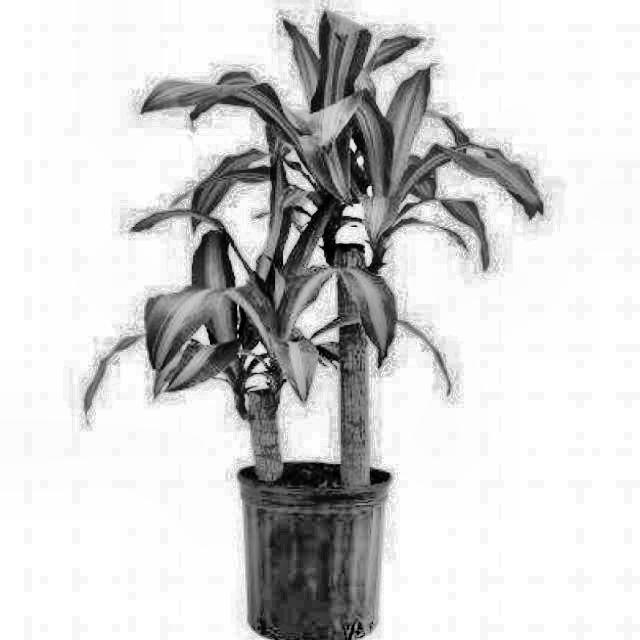plants: (120, 30, 478, 458)
